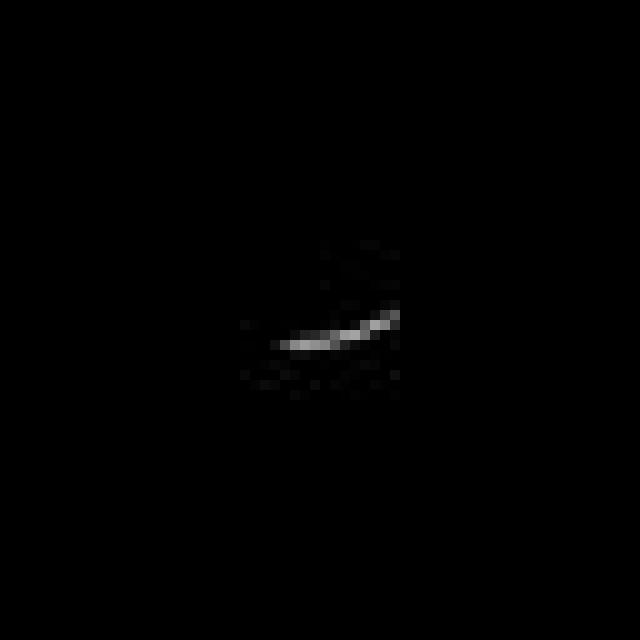1 -one-: (279, 308, 408, 361)
